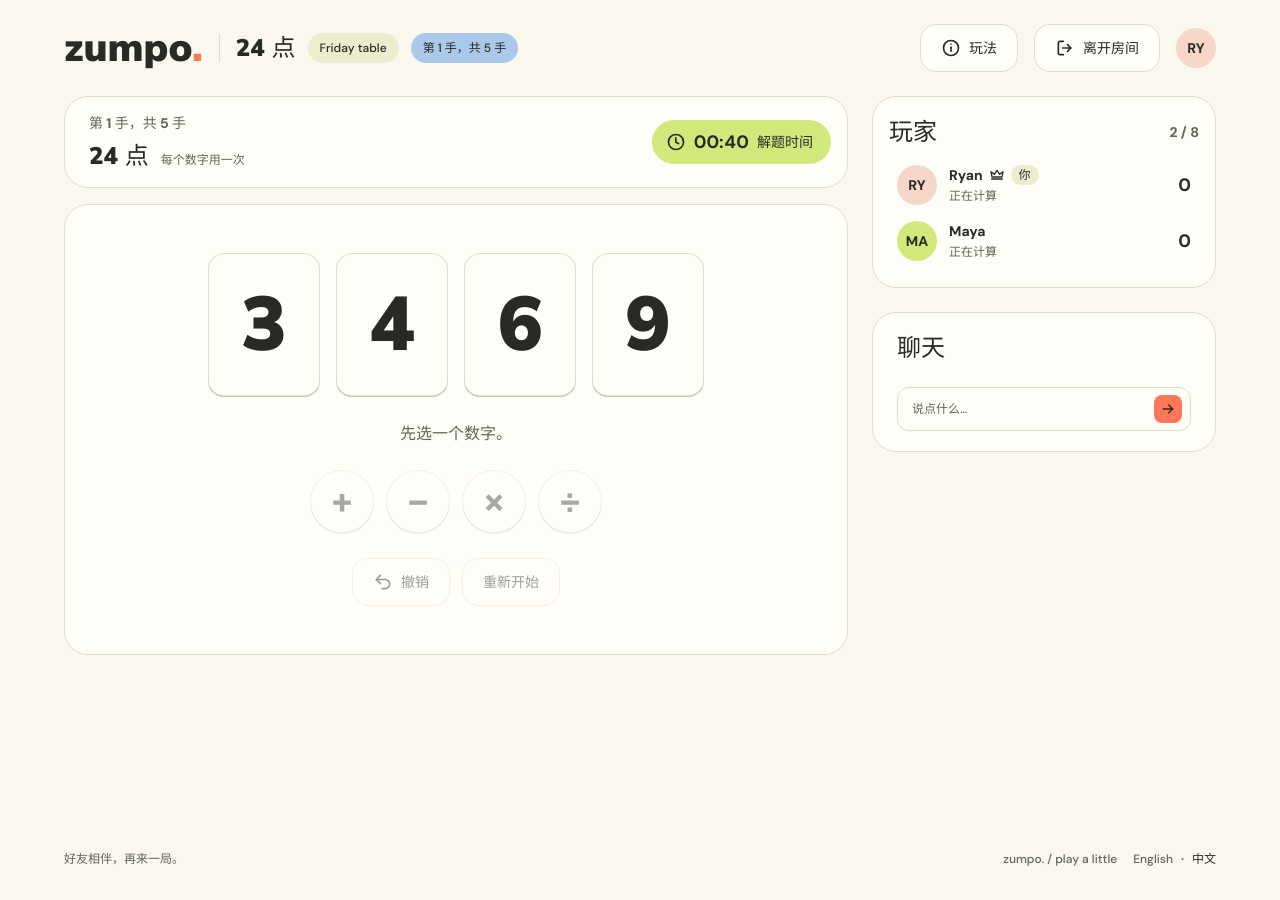
it: a Make 24 room › plays with Chinese prompts and accessible operators
Expected: the text "第 1 手，共 5 手" is shown 2 times, [423, 39, 506, 57]; [89, 114, 186, 132]
Expected: the text "每个数字用一次" is shown, [161, 151, 245, 169]
What coordinates should you click on to do the following:
click the button "3"
I would click on:
 (264, 325)
Its box is [208, 253, 320, 397].
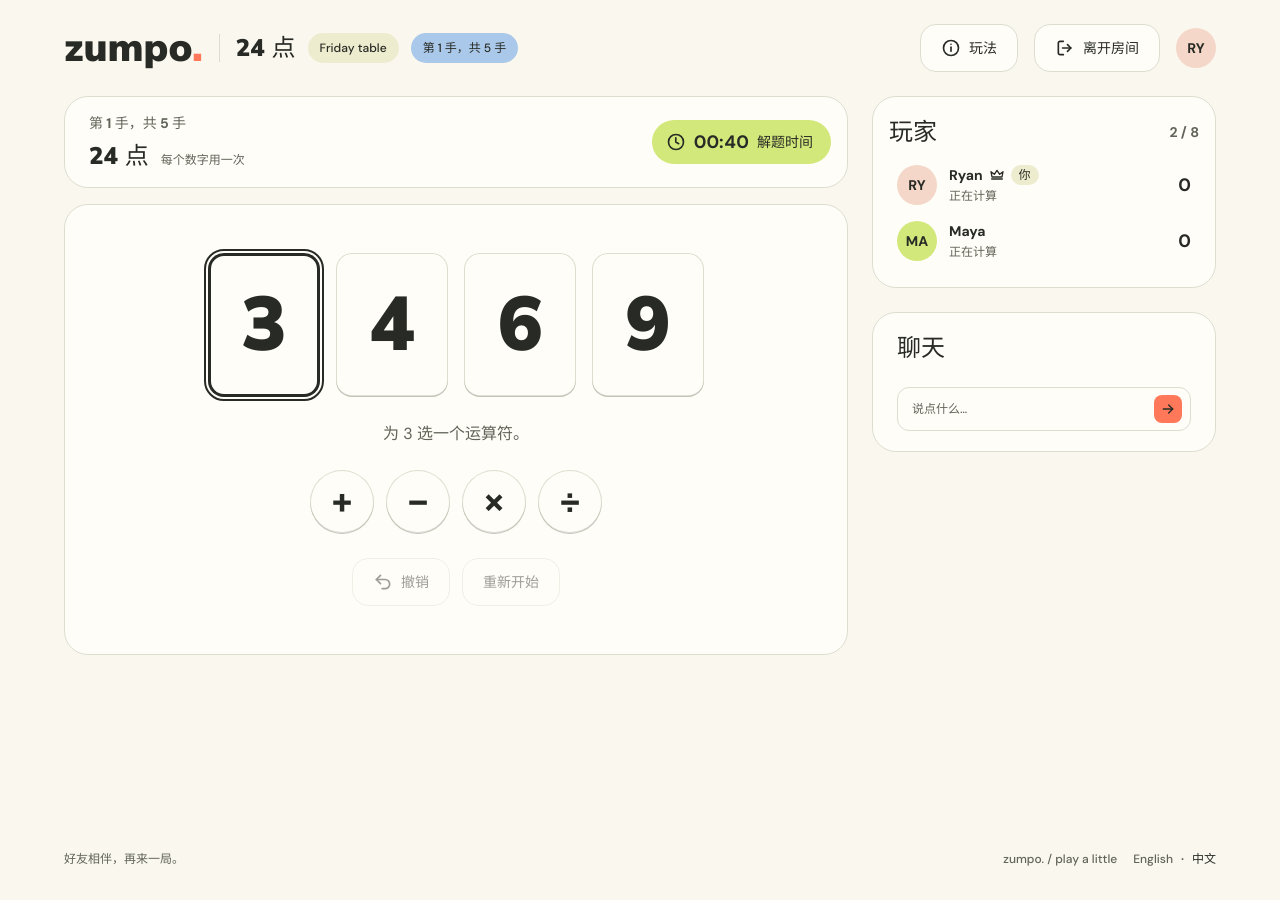
What coordinates should you click on to do the following:
click the button named "加"
I would click on:
 (342, 502)
Its box is [310, 470, 374, 534].
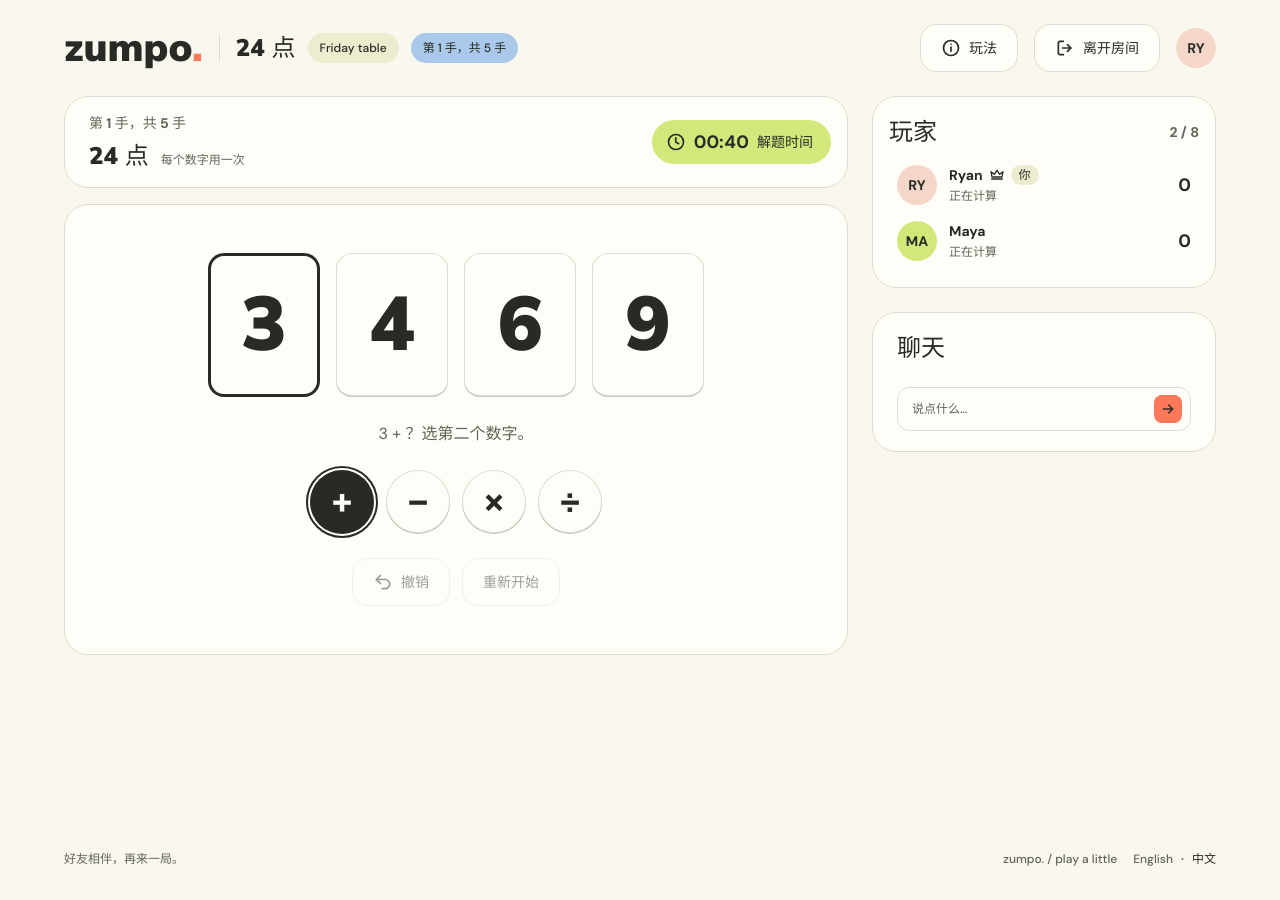
What coordinates should you click on to do the following:
click the button "9"
I would click on:
 (648, 325)
Its box is [592, 253, 704, 397].
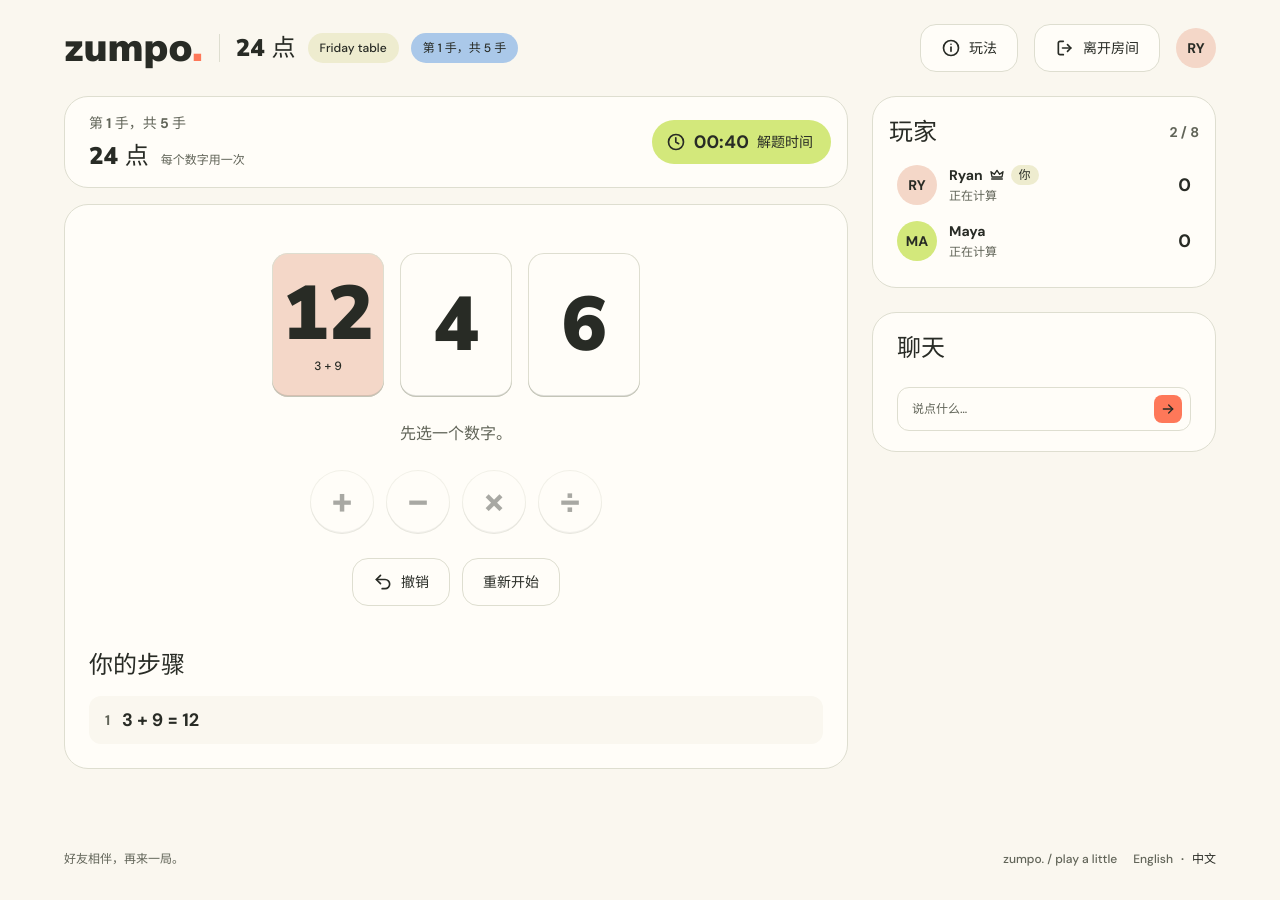
Result: the heading "你的步骤" is shown at [89, 649, 185, 681]
Result: the button named "12，来自 3 + 9" is shown at [272, 253, 384, 397]
What coordinates should you click on to do the following:
click the button "撤销"
I would click on:
 (401, 582)
Its box is [352, 558, 450, 606].
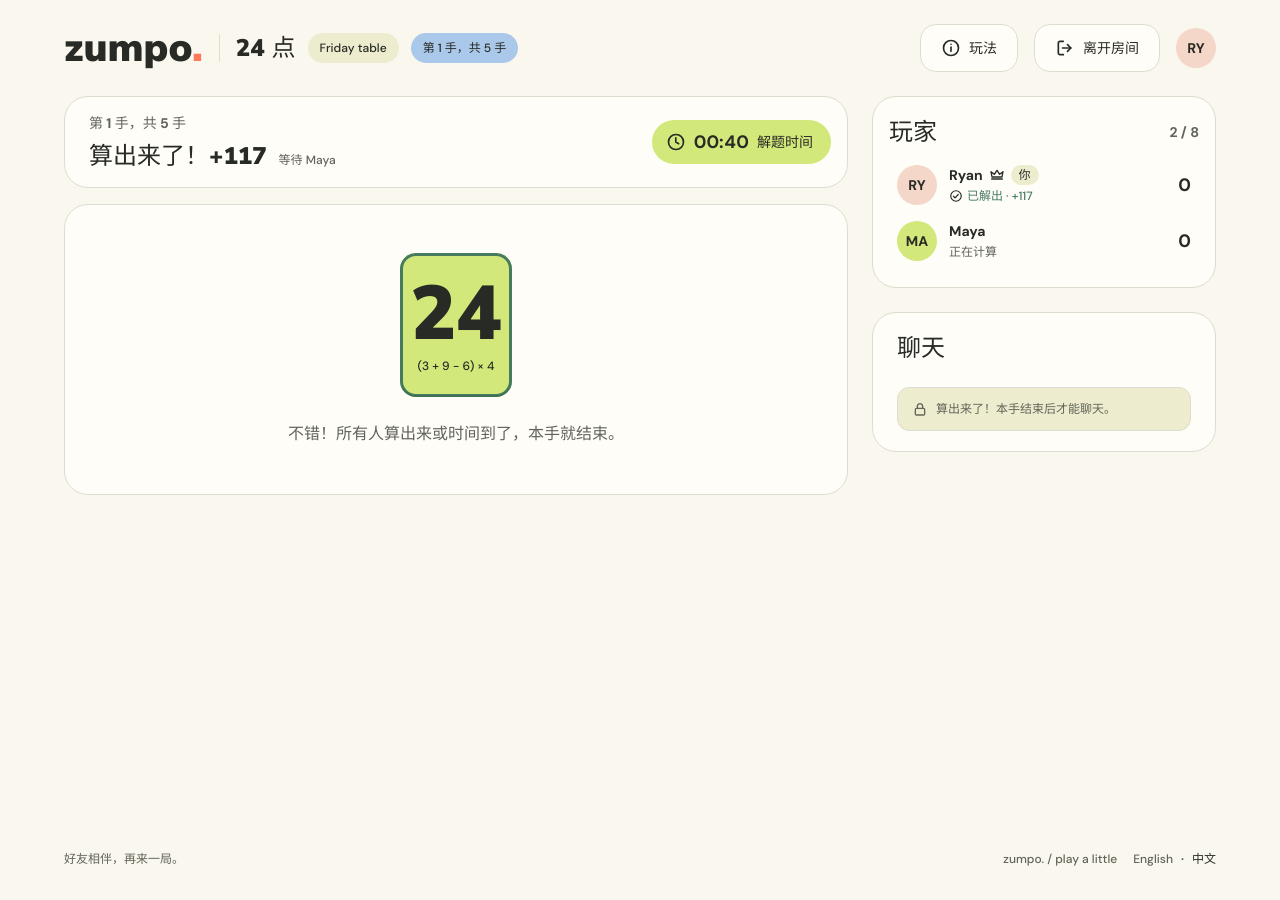
Result: the heading "你的步骤" is gone
Result: the text "算出来了！+117" is shown at [89, 141, 267, 171]
Result: the text "等待 Maya" is shown at [279, 151, 336, 169]
